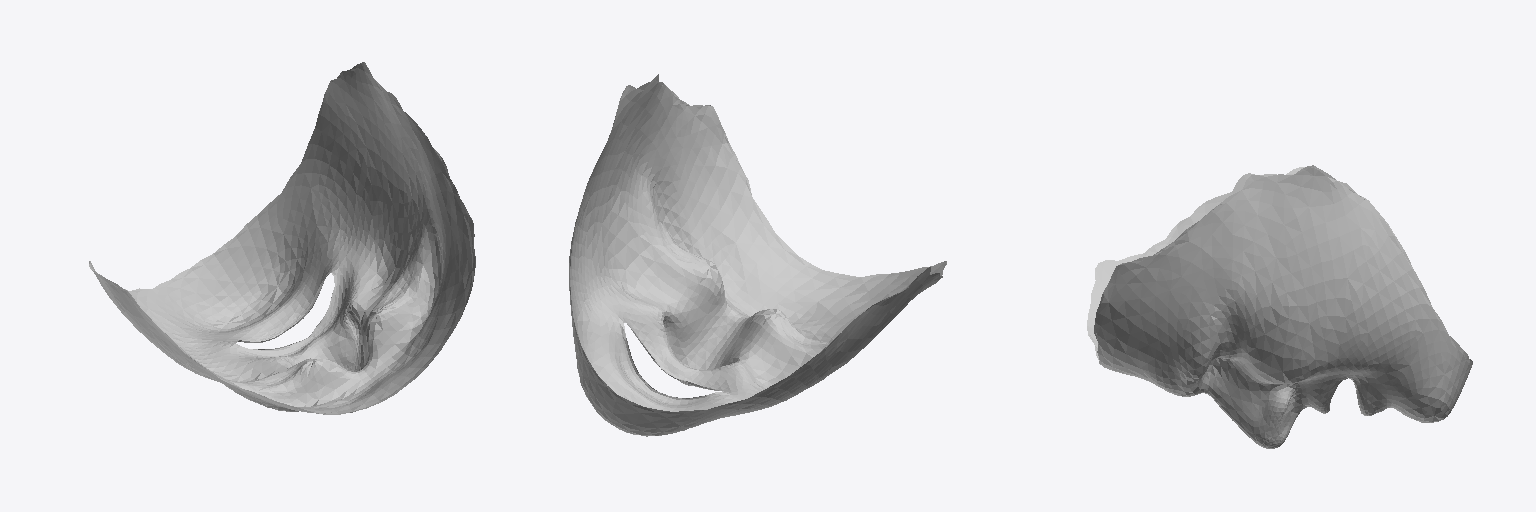
Rendered from face_gab_sfm23.obj.
3 renders of one model, left to right at view 1: azimuth 30°, elevation 25°; view 2: azimuth 150°, elevation 25°; view 3: azimuth 270°, elevation 25°, orthographic.
Bounding box in the file's own units: 164 × 155 × 179.